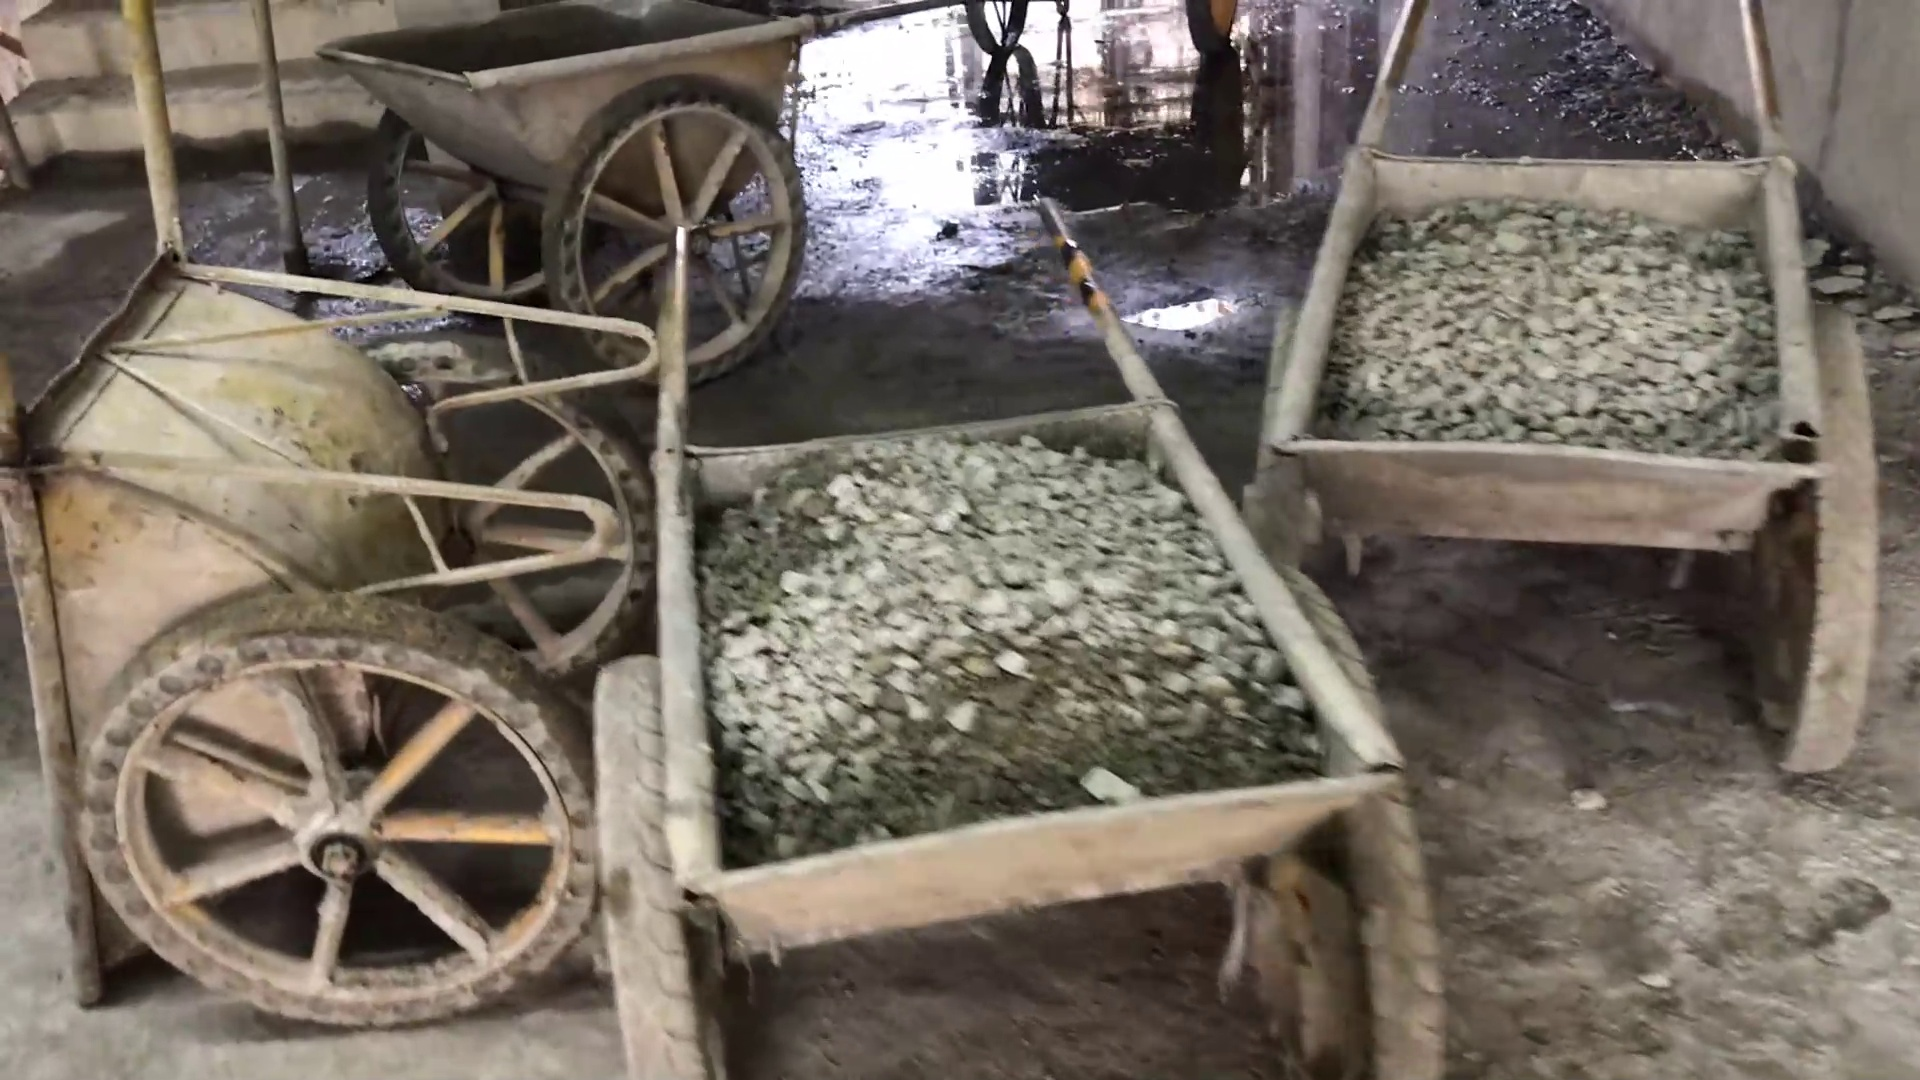handcart: (588, 225, 1447, 1080), (7, 1, 665, 1029), (1269, 9, 1880, 738), (313, 18, 976, 378)
